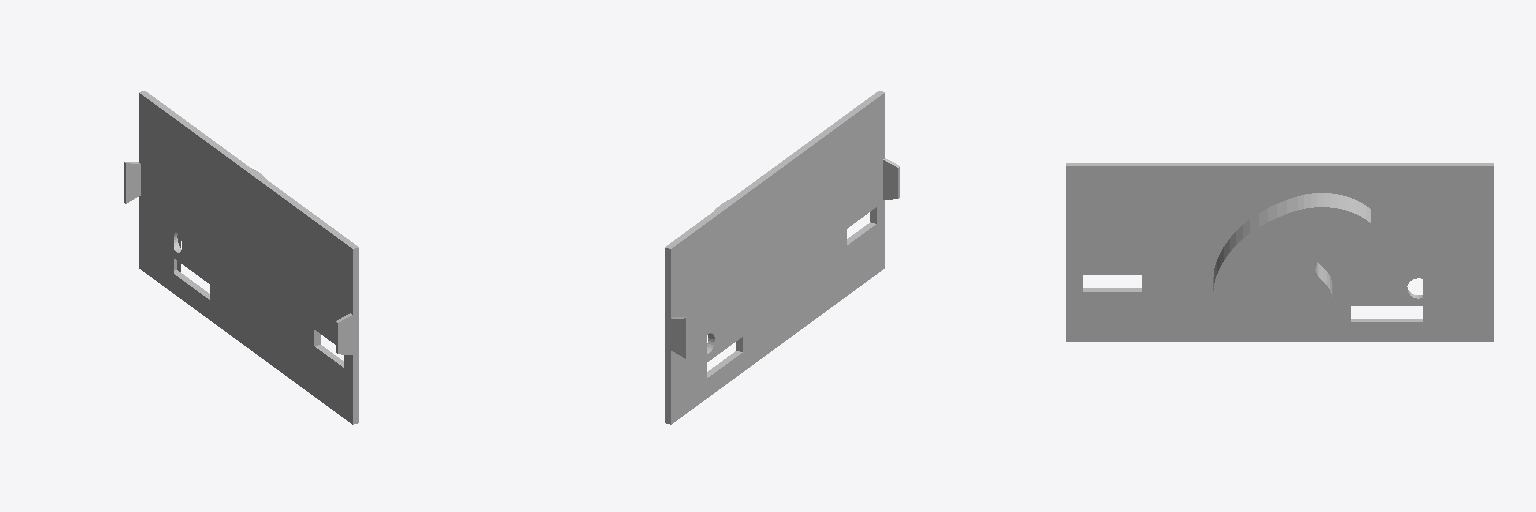
The model's file is Liquid Galaxy Voice Back v2 Object.obj.
The picture shows the model from 3 angles: view 1: azimuth 30°, elevation 25°; view 2: azimuth 150°, elevation 25°; view 3: azimuth 270°, elevation 25°; orthographic projection.
Visible parts, largest first — view 1: Mesh1 Model; view 2: Mesh1 Model; view 3: Mesh1 Model.
Boxes of the visible parts, <box> form: Mesh1 Model: <box>124,91,358,424</box>; Mesh1 Model: <box>665,91,899,424</box>; Mesh1 Model: <box>1066,163,1493,341</box>.
Size of the model in its own units: 20.12 by 66.83 by 148.